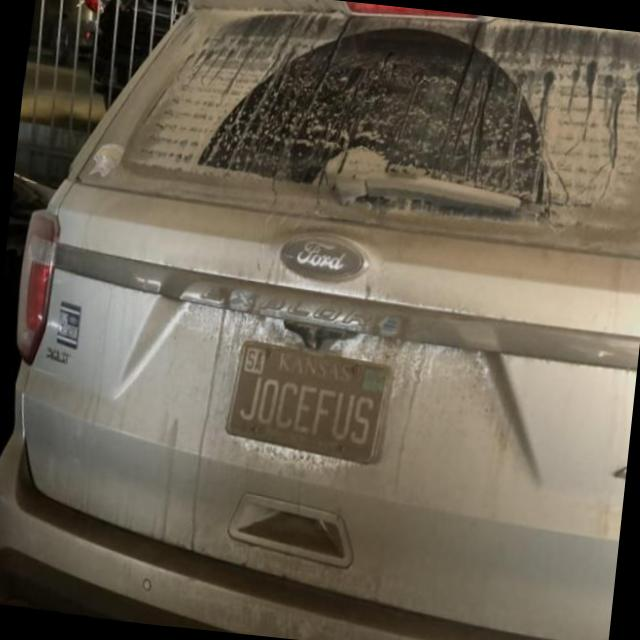LicensePlate: (223, 338, 392, 466)
